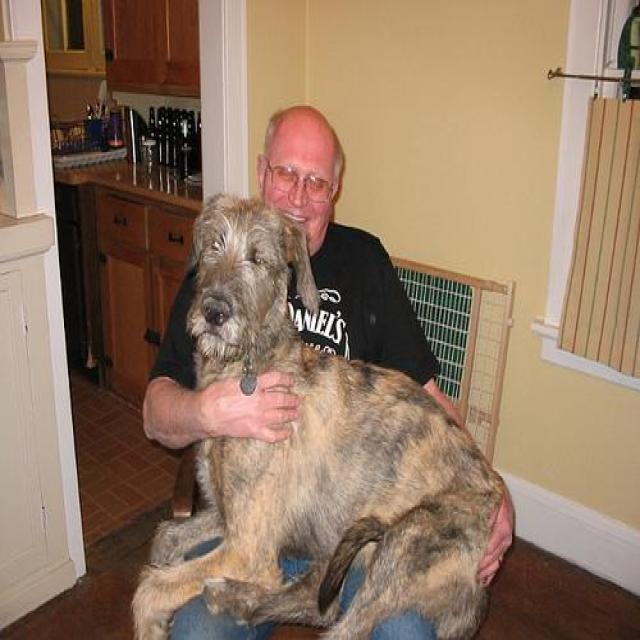irish_wolfhound: (129, 194, 516, 636)
